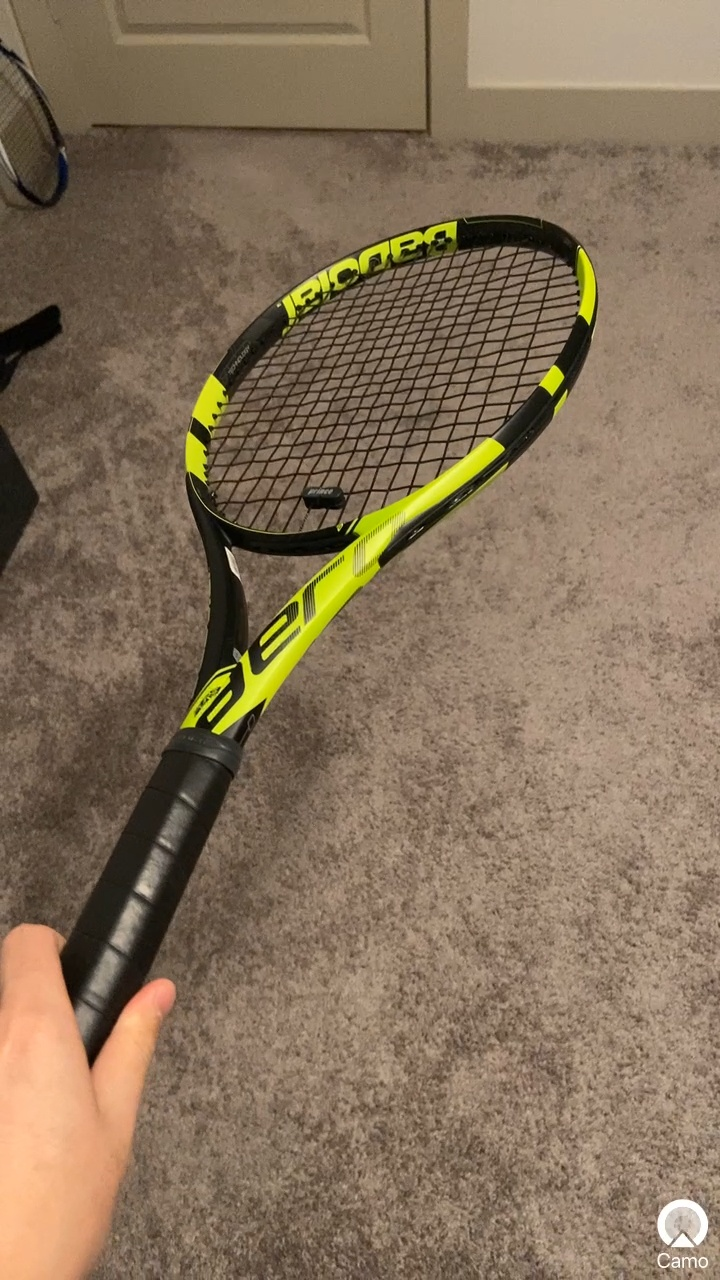Tennis_Racquet: (1, 197, 621, 1136)
